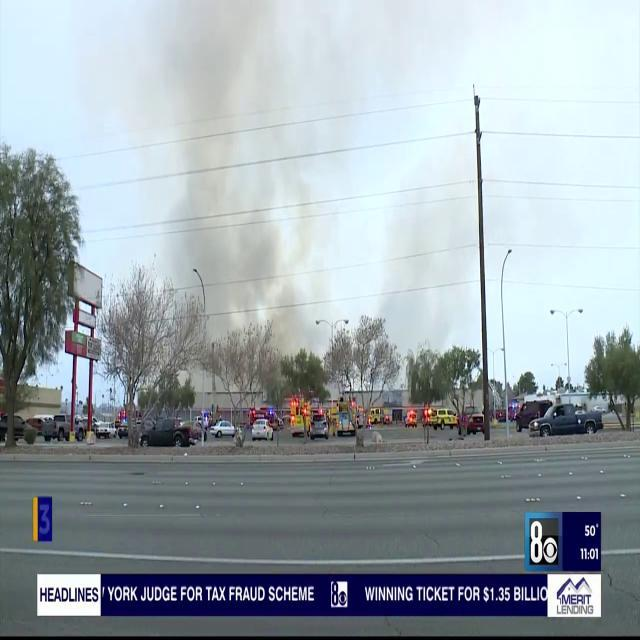Smoke: (102, 0, 350, 388)
